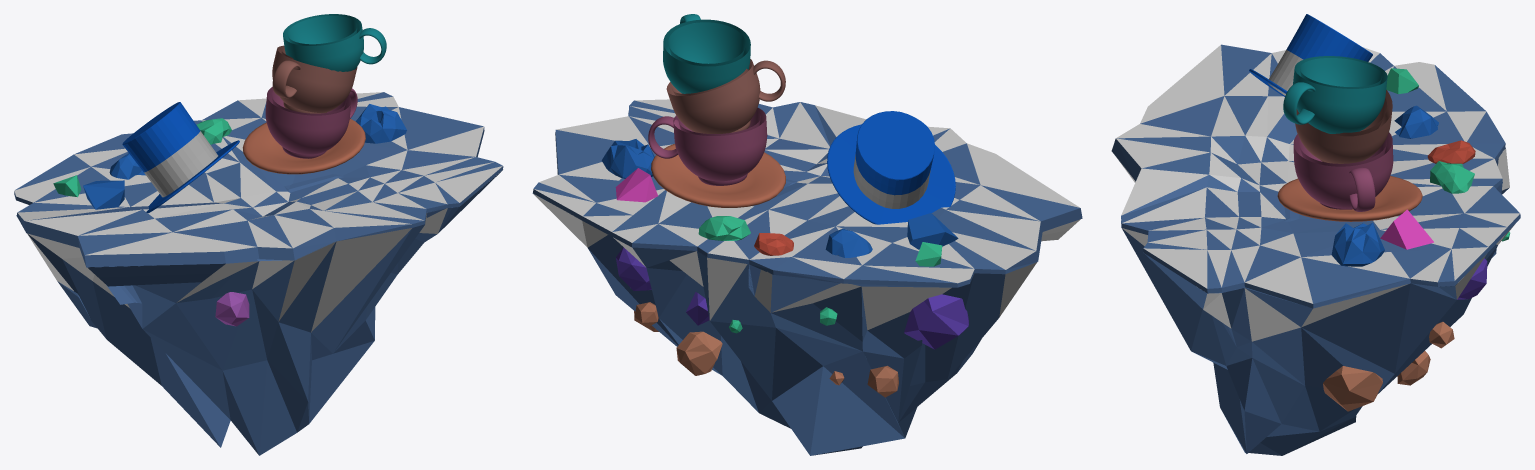
Rendered from aliceland_base.obj.
The picture shows the model from 3 angles, left to right: view 1: azimuth 30°, elevation 25°; view 2: azimuth 150°, elevation 25°; view 3: azimuth 270°, elevation 25°; orthographic projection. The views are drawn at different scales.
Parts seen in each view (by area): view 1: Plane.001_Plane.002, tophat__2, Torus004.001_Untitled.017, Torus004_Untitled.011, Torus004.002_Untitled.018, Sphere002_Untitled.010, Icosphere.007_Icosphere.016, Icosphere.012_Icosphere.019, Icosphere.009_Icosphere.010, Icosphere.014_Icosphere.020, Icosphere.002_Icosphere.000; view 2: Plane.001_Plane.002, tophat__2, Torus004.001_Untitled.017, Torus004_Untitled.011, Torus004.002_Untitled.018, Sphere002_Untitled.010, Icosphere.003, Icosphere.013_Icosphere.014, Icosphere.007_Icosphere.016, Icosphere.012_Icosphere.019, Icosphere.014_Icosphere.020, Icosphere.010_Icosphere.017 (+3 smaller); view 3: Plane.001_Plane.002, Torus004.001_Untitled.017, Torus004_Untitled.011, Sphere002_Untitled.010, tophat__2, Icosphere.013_Icosphere.014, Torus004.002_Untitled.018, Icosphere.007_Icosphere.016, Icosphere.010_Icosphere.017, Icosphere.014_Icosphere.020, Icosphere.002_Icosphere.000, Icosphere.008_Icosphere.015 (+2 smaller).
Boxes of the visible parts, <box> form: Plane.001_Plane.002: <box>14,92,503,455</box>; tophat__2: <box>122,102,239,213</box>; Torus004.001_Untitled.017: <box>283,14,386,71</box>; Torus004_Untitled.011: <box>265,87,357,158</box>; Torus004.002_Untitled.018: <box>272,45,357,113</box>; Sphere002_Untitled.010: <box>242,119,365,174</box>; Icosphere.007_Icosphere.016: <box>355,104,406,143</box>; Icosphere.012_Icosphere.019: <box>83,180,124,209</box>; Icosphere.009_Icosphere.010: <box>215,292,249,326</box>; Icosphere.014_Icosphere.020: <box>196,118,231,144</box>; Icosphere.002_Icosphere.000: <box>109,153,145,179</box>; Plane.001_Plane.002: <box>532,99,1082,455</box>; tophat__2: <box>827,111,955,224</box>; Torus004.001_Untitled.017: <box>663,14,750,93</box>; Torus004_Untitled.011: <box>648,107,767,185</box>; Torus004.002_Untitled.018: <box>666,59,785,133</box>; Sphere002_Untitled.010: <box>651,143,785,207</box>; Icosphere.003: <box>615,247,968,349</box>; Icosphere.013_Icosphere.014: <box>634,302,898,397</box>; Icosphere.007_Icosphere.016: <box>601,139,654,178</box>; Icosphere.012_Icosphere.019: <box>907,213,958,249</box>; Icosphere.014_Icosphere.020: <box>698,216,750,240</box>; Icosphere.010_Icosphere.017: <box>615,168,657,202</box>; Plane.001_Plane.002: <box>1111,44,1520,455</box>; Torus004.001_Untitled.017: <box>1283,56,1387,133</box>; Torus004_Untitled.011: <box>1293,132,1393,211</box>; Sphere002_Untitled.010: <box>1277,176,1422,221</box>; tophat__2: <box>1249,14,1372,96</box>; Icosphere.013_Icosphere.014: <box>1323,321,1454,411</box>; Torus004.002_Untitled.018: <box>1295,90,1392,163</box>; Icosphere.007_Icosphere.016: <box>1331,222,1384,266</box>; Icosphere.010_Icosphere.017: <box>1380,209,1433,249</box>; Icosphere.014_Icosphere.020: <box>1430,161,1474,193</box>; Icosphere.002_Icosphere.000: <box>1394,105,1438,138</box>; Icosphere.008_Icosphere.015: <box>1427,140,1475,163</box>.
Bounding box in the file's own units: 39.44 × 31.7 × 26.54.
